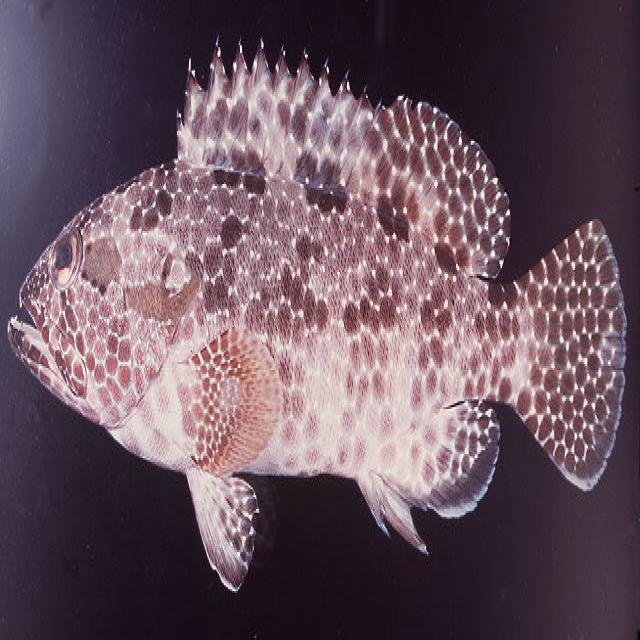ikan: (7, 31, 627, 595)
